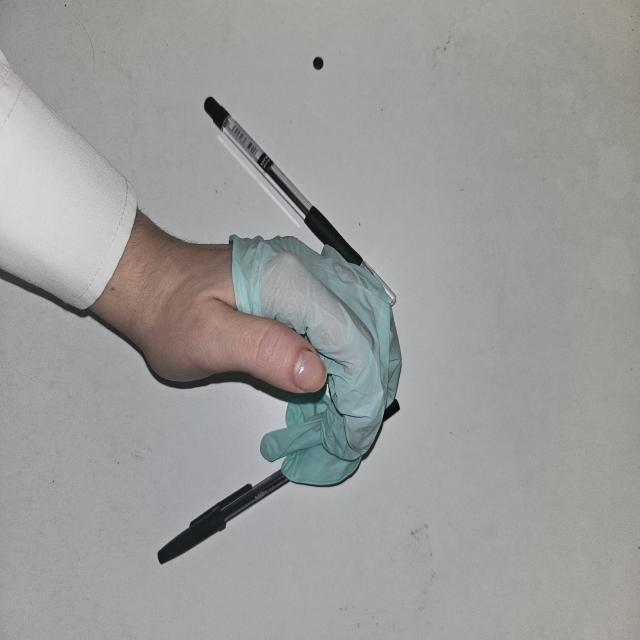glove_partial: (148, 234, 402, 487)
